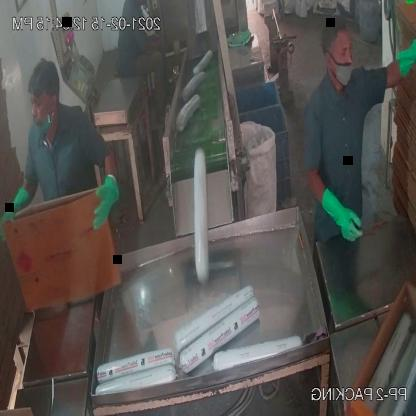glove: (317, 181, 367, 246), (86, 167, 124, 239), (0, 178, 35, 231), (399, 34, 416, 91)
